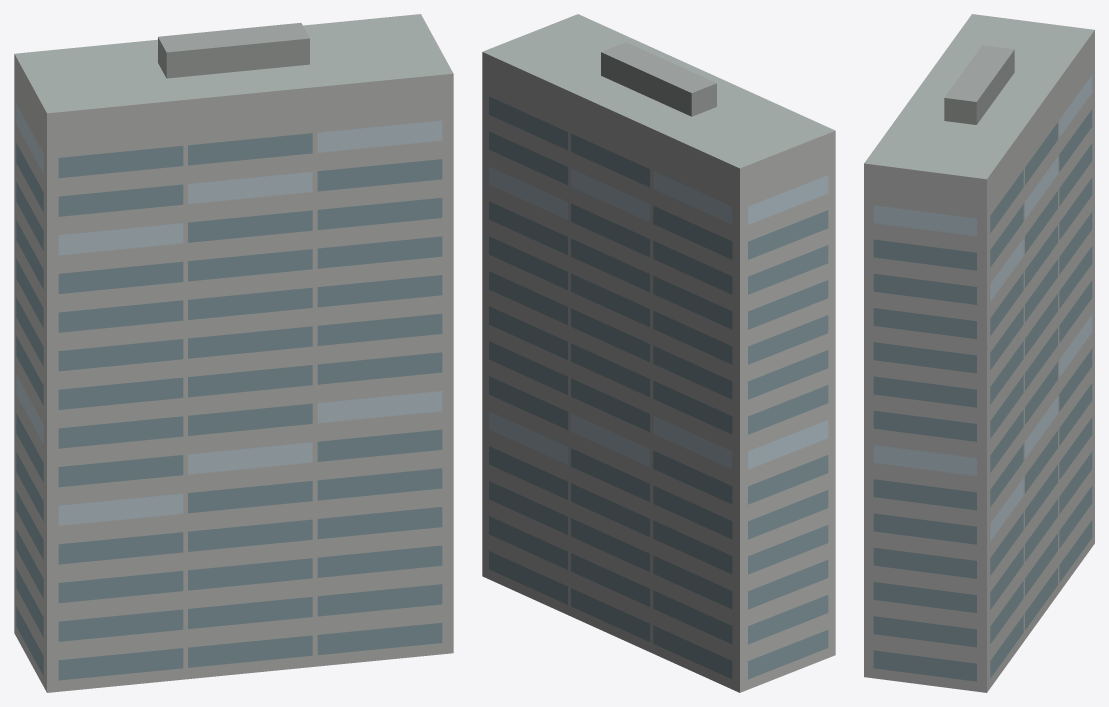
File: fallback-olympic-park-foreon-426.glb
The picture shows the model from 3 angles, left to right: view 1: azimuth 30°, elevation 25°; view 2: azimuth 150°, elevation 25°; view 3: azimuth 270°, elevation 25°; orthographic projection. The views are drawn at different scales.
Visible parts, largest first — view 1: fallback-olympic-park-foreon-426; view 2: fallback-olympic-park-foreon-426; view 3: fallback-olympic-park-foreon-426.
Boxes of the visible parts, x1,y1,x2,y2 form: fallback-olympic-park-foreon-426: (14, 14, 453, 692); fallback-olympic-park-foreon-426: (482, 14, 835, 692); fallback-olympic-park-foreon-426: (864, 14, 1094, 692).
Size of the model in its own units: 31.58 by 47.81 by 18.63.
